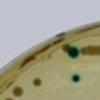Blue_green: (67, 46, 80, 59), (70, 73, 81, 83)
brown: (10, 86, 25, 97), (86, 45, 96, 58), (92, 42, 100, 58), (80, 45, 89, 56), (31, 78, 42, 87), (62, 43, 71, 53), (3, 97, 15, 100)
